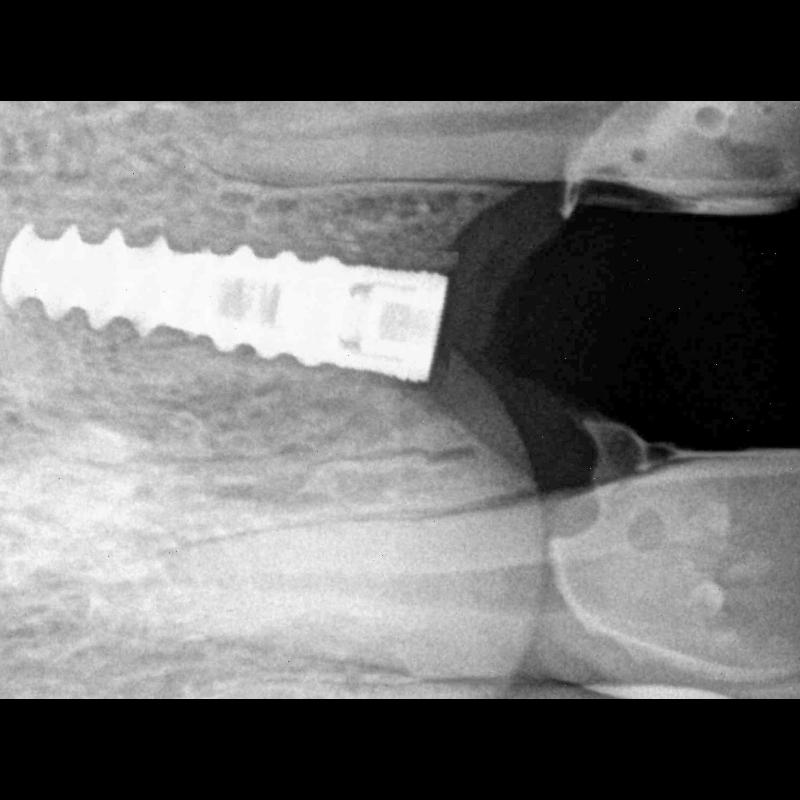NORIS: (0, 222, 456, 384)
